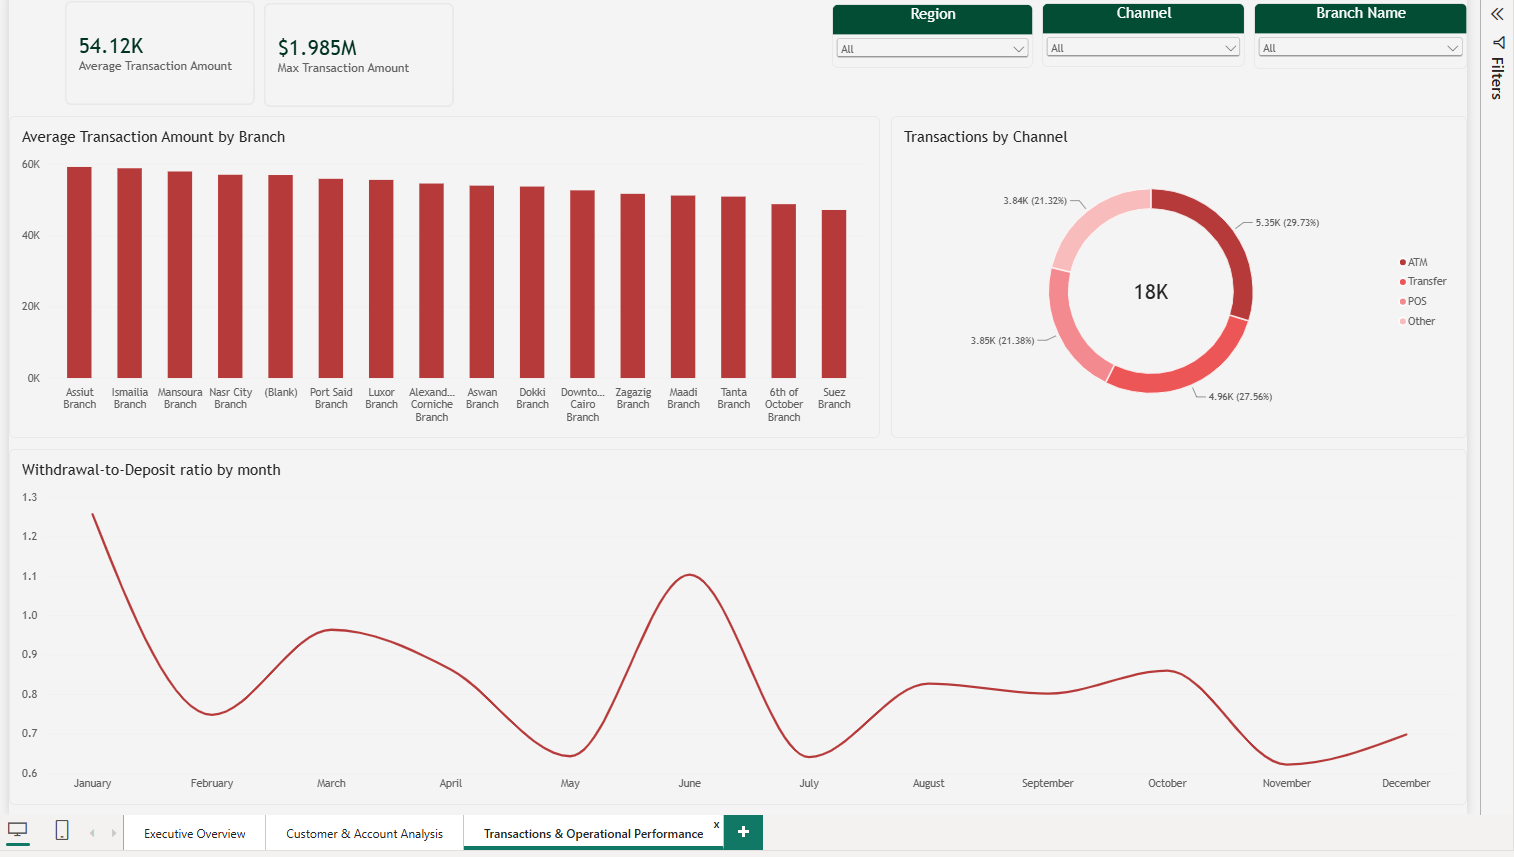

This screenshot's page, from the dashboard's own definition file:
{"tool":"powerbi","page":{"name":"Transactions & Operational Performance","canvas":[1920,1080],"ordinal":2},"visuals":[{"type":"lineChart","title":"Withdrawal-to-Deposit ratio by month","fields":{"Category":["Transactions.TransactionDate.Variation.Date Hierarchy.Month"],"Y":["Dax Measures.Withdrawal to Deposit Ratio"]},"box":[0,598,1920.3,468.9],"z":0},{"type":"slicer","title":"Region","fields":{"Values":["Customers.BranchRegion_final"]},"box":[1084,11.9,264.7,84.3],"z":1000},{"type":"donutChart","title":"Transactions by Channel","fields":{"Category":["Transactions.Channel"],"Y":["CountNonNull(Transactions.TransactionID)"]},"box":[1161.7,159.4,758.6,424.1],"z":2000},{"type":"cardVisual","fields":{"Data":["Dax Measures.Average Transaction Amount"]},"box":[73.8,7.9,250,137],"z":3000},{"type":"cardVisual","title":"Largest Transaction Amount","fields":{"Data":["Dax Measures.Max Transaction Amount"]},"box":[335.9,10.5,250.2,137],"z":4000},{"type":"slicer","title":"Channel","fields":{"Values":["Transactions.Channel"]},"box":[1360.5,10.5,267.4,84.3],"z":5000},{"type":"clusteredColumnChart","title":"Average Transaction Amount by Branch","fields":{"Category":["Customers.BranchName"],"Y":["Dax Measures.Average Transaction Amount"]},"box":[0,159.4,1147.2,424.1],"z":6000},{"type":"slicer","title":"Branch Name","fields":{"Values":["Balance_By_Branch.BranchName_final"]},"box":[1639.8,10.5,280.5,86.9],"z":7000}]}

Visuals, with their boxes on the page's 1920x1080 design canvas (x1, y1, x2, y2). These are canvas units, not pixel positions in the 1514x857 screenshot, which may show the page scaled, cropped or inside an application window:
"Withdrawal-to-Deposit ratio by month" lineChart: rect(0, 598, 1920, 1067)
"Region" slicer: rect(1084, 12, 1349, 96)
"Transactions by Channel" donutChart: rect(1162, 159, 1920, 584)
cardVisual - Dax Measures.Average Transaction Amount: rect(74, 8, 324, 145)
"Largest Transaction Amount" cardVisual: rect(336, 10, 586, 148)
"Channel" slicer: rect(1360, 10, 1628, 95)
"Average Transaction Amount by Branch" clusteredColumnChart: rect(0, 159, 1147, 584)
"Branch Name" slicer: rect(1640, 10, 1920, 97)
